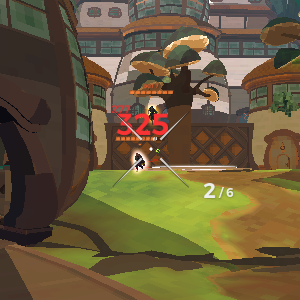model: (130, 147, 149, 175), (145, 102, 158, 123)
